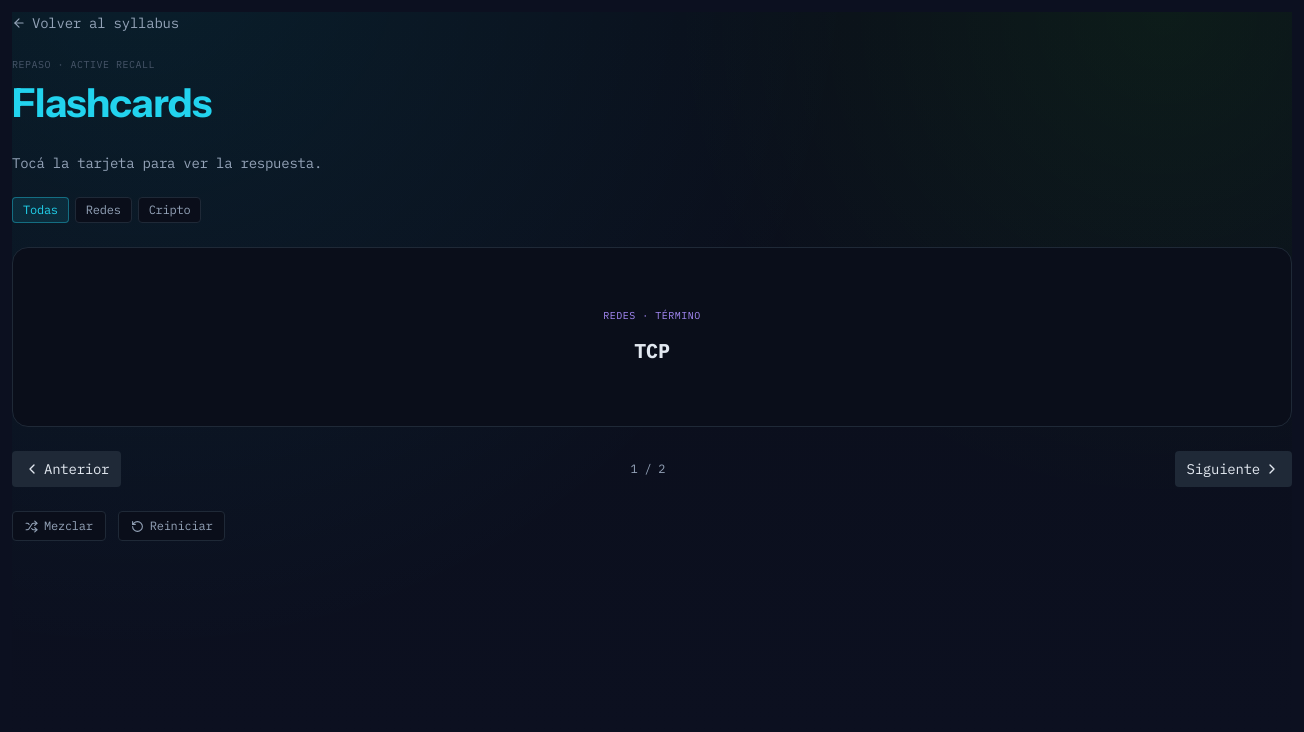
FlashcardDeck › avanza a la siguiente tarjeta
The width and height of the screenshot is (1304, 732).
Click the button labelled "Siguiente". click: (1233, 469)
box: x1=1174 y1=451 x2=1292 y2=487
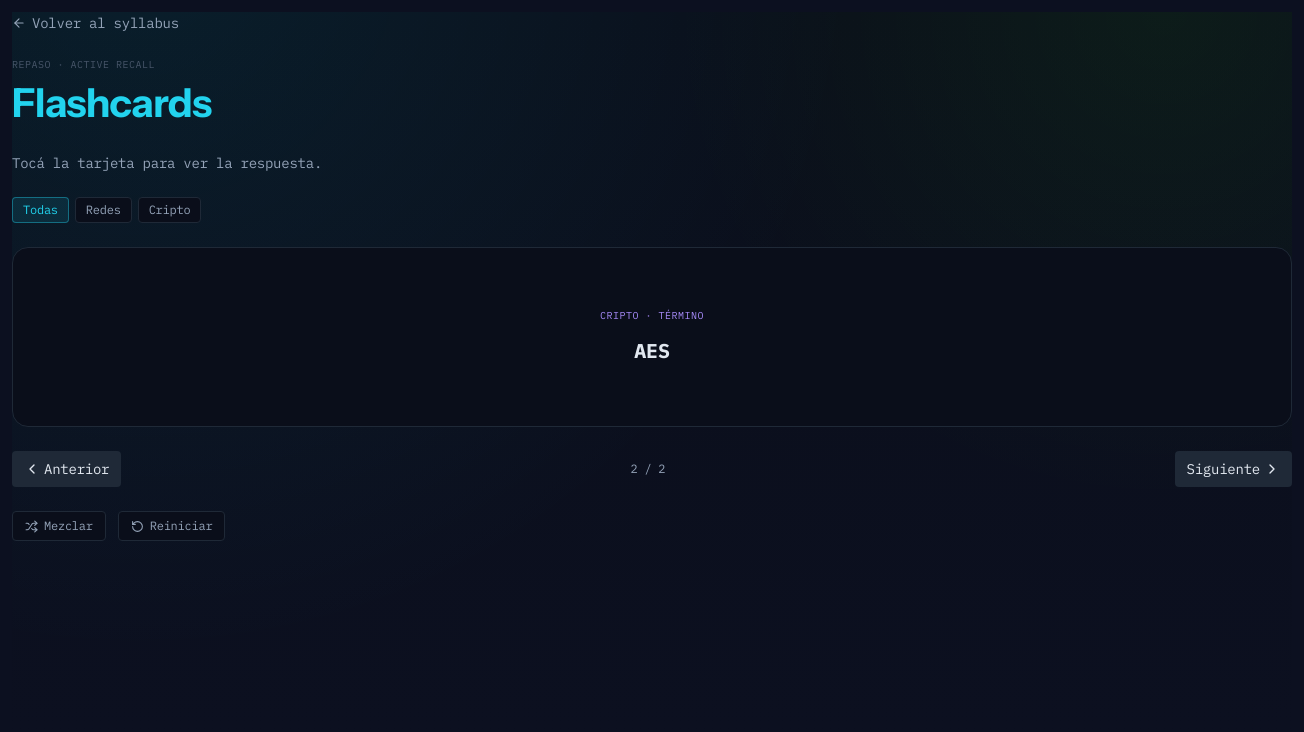
Expected: the text "AES" is shown, x1=634 y1=335 x2=670 y2=367
Expected: the text "2 / 2" is shown, x1=630 y1=461 x2=665 y2=477
